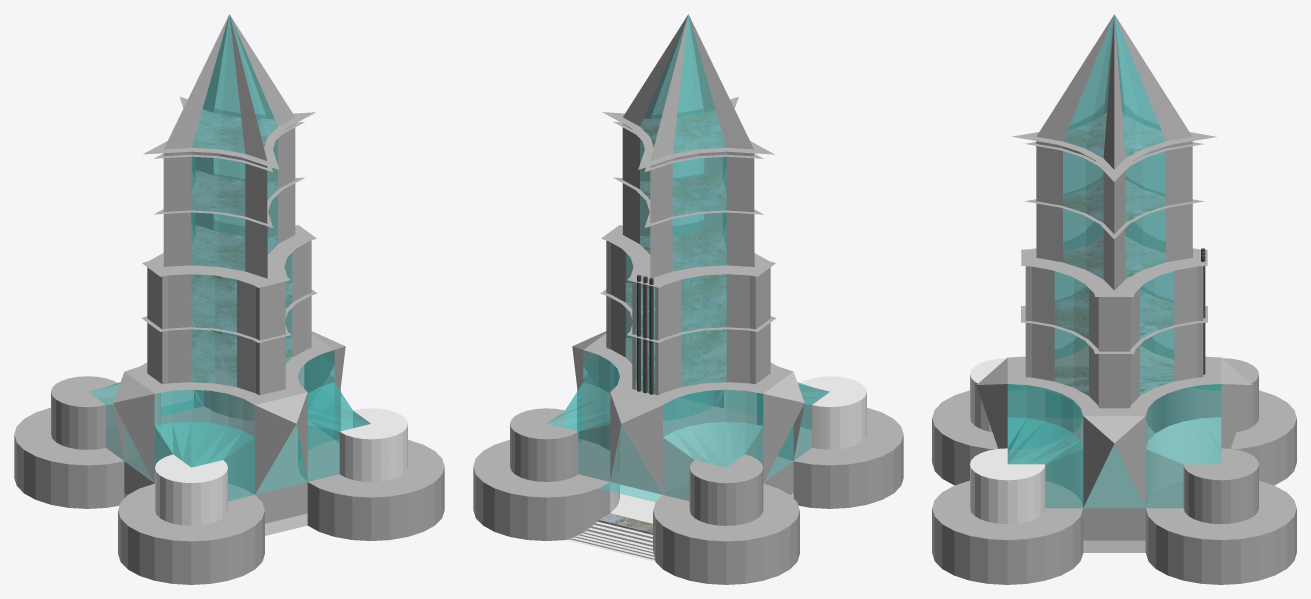
Rendered from colony-building.fbx.
3 renders of one model, left to right at view 1: azimuth 30°, elevation 25°; view 2: azimuth 150°, elevation 25°; view 3: azimuth 270°, elevation 25°, orthographic. The views are drawn at different scales.
Parts seen in each view (by area): view 1: Component1; view 2: Component1; view 3: Component1.
Boxes of the visible parts, x1,y1,x2,y2 form: Component1: (14, 14, 444, 584); Component1: (473, 14, 903, 584); Component1: (932, 14, 1296, 584).
Size of the model in its own units: 39.75 by 59.4 by 39.75.
